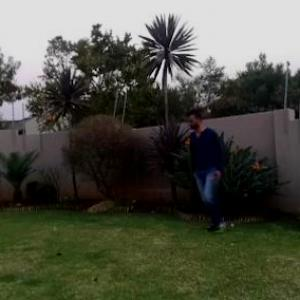follow: (190, 102, 227, 232)
